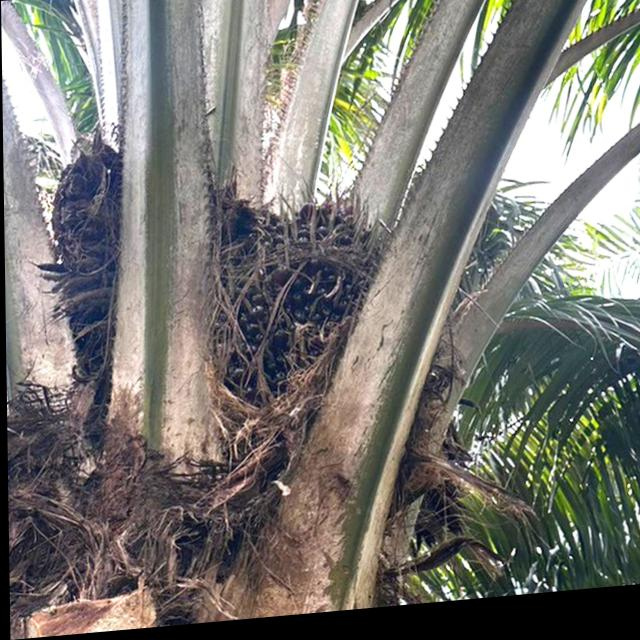ripe: (212, 187, 400, 396)
